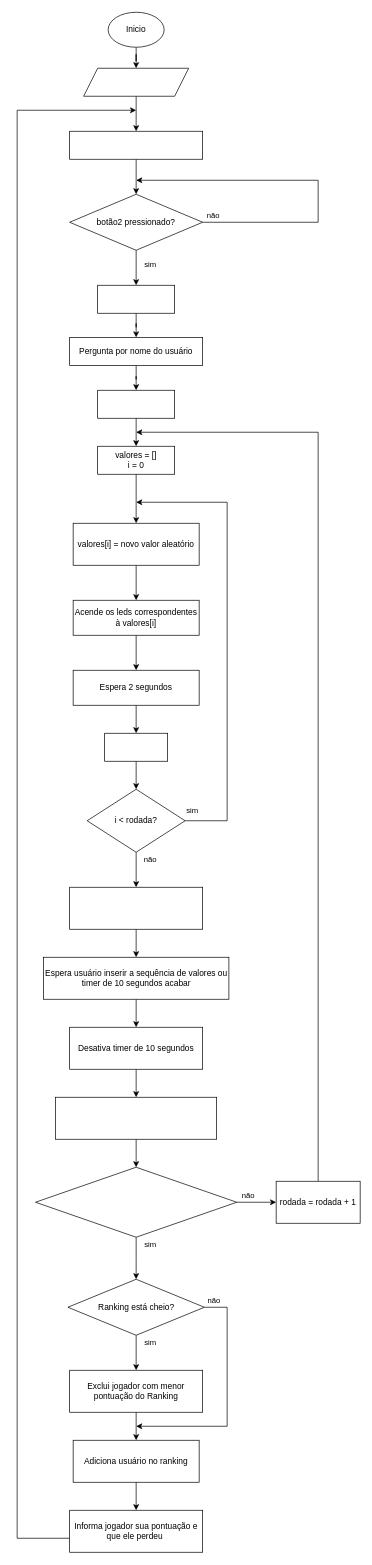
This 372x1565 diagram has some shape labels left out. Each missing label, with the centre of its shape:
"Ativa timer de 10 segundos" belongs at point (136, 908).
"Confere valores inseridos pelo usuário" belongs at point (136, 1118).
"Exibe mensagem de início" belongs at point (136, 145).
"i = i + 1" belongs at point (136, 747).
"Inicia portas e botões" belongs at point (136, 82).
"Mostra ranking" belongs at point (136, 299).
"rodada = 1" belongs at point (136, 404).
"Usuário errou ou acabou o tempo?" belongs at point (136, 1202).
